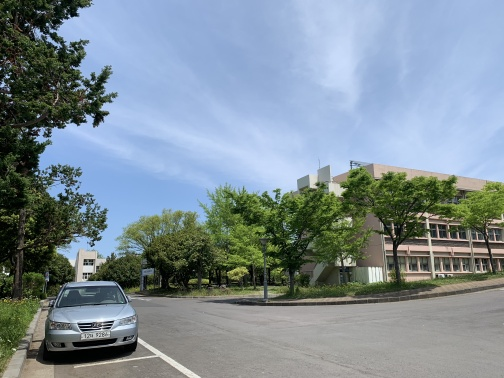College Of Education: (285, 162, 502, 299)
